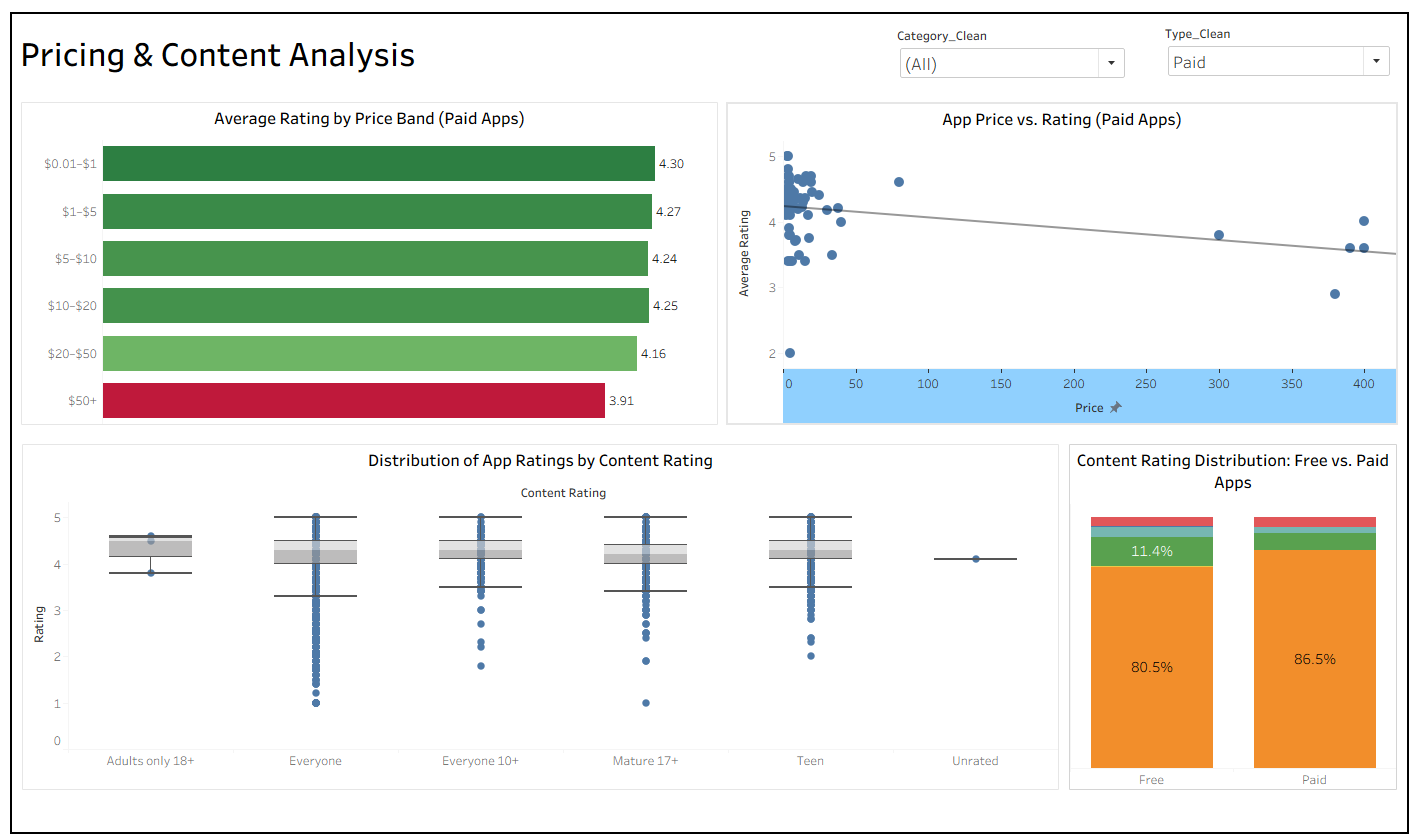

This screenshot's page, from the dashboard's own definition file:
{"tool":"tableau","page":{"name":"Dashboard 2","canvas":[1400,800],"ordinal":1},"visuals":[{"type":"text","box":[2,2,1395,79]},{"type":"filter","title":"PriceApp vs Avg rating2","param":"[federated.019ev5d0986adr167u6dm0snf7zb].[none:Calculation_0197685449314311:nk]","box":[1155,13,228,61]},{"type":"filter","title":"PriceApp vs Avg rating2","param":"[federated.019ev5d0986adr167u6dm0snf7zb].[none:Calculation_0197685440053249:nk]","box":[887,15,231,65]},{"type":"worksheet","title":"PriceApp vs Avg Rating1","mark":"Automatic","rows":["Calculation_0197685606760508"],"cols":["Rating"],"box":[7,86,705,331]},{"type":"worksheet","title":"PriceApp vs Avg rating2","mark":"Circle","rows":["Rating"],"cols":["Price"],"box":[712,86,680,331]},{"type":"worksheet","title":"Rating Dist by Content RatingM4","mark":"Circle","rows":["Rating"],"cols":["Content Rating"],"box":[7,427,1047,356]},{"type":"worksheet","title":"Distribution diff paid vs freeM9","mark":"Automatic","cols":["Calculation_0197685449314311"],"box":[1054,427,338,356]}]}

Visuals, with their boxes on the page's 1400x800 design canvas (x1, y1, x2, y2). These are canvas units, not pixel positions in the 1411x837 screenshot, which may show the page scaled, cropped or inside an application window:
text: box(2, 2, 1397, 81)
"PriceApp vs Avg rating2" filter: box(1155, 13, 1383, 74)
"PriceApp vs Avg rating2" filter: box(887, 15, 1118, 80)
"PriceApp vs Avg Rating1" worksheet: box(7, 86, 712, 417)
"PriceApp vs Avg rating2" worksheet (Circle marks): box(712, 86, 1392, 417)
"Rating Dist by Content RatingM4" worksheet (Circle marks): box(7, 427, 1054, 783)
"Distribution diff paid vs freeM9" worksheet: box(1054, 427, 1392, 783)
